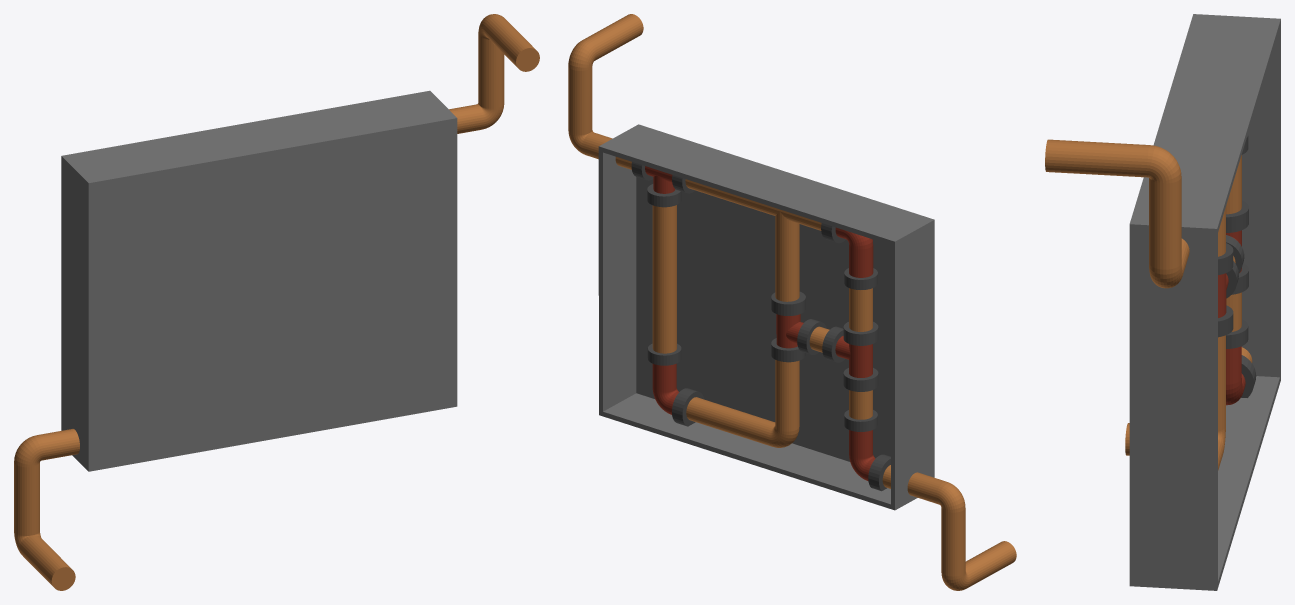
Rendered from Submarine_Pipe_Puzzle.fbx.
3 views of the same model, side by side, from view 1: azimuth 30°, elevation 25°; view 2: azimuth 150°, elevation 25°; view 3: azimuth 270°, elevation 25° (orthographic). The views are drawn at different scales.
Visible parts, largest first — view 1: PipeBox, Main_Pipe; view 2: PipeBox, Main_Pipe, PuzzlePipe2, PuzzlePipe4, PuzzlePipe6, PuzzlePipe1, PuzzlePipe3, PuzzlePipe5; view 3: PipeBox, Main_Pipe, PuzzlePipe1, PuzzlePipe4, PuzzlePipe2.
Part boxes in pixels (x1,y1,x2,y2): PipeBox: [61, 90, 457, 471]; Main_Pipe: [14, 14, 539, 590]; PipeBox: [598, 124, 934, 510]; Main_Pipe: [568, 14, 1016, 590]; PuzzlePipe2: [822, 321, 878, 391]; PuzzlePipe4: [771, 291, 826, 362]; PuzzlePipe6: [647, 343, 704, 426]; PuzzlePipe1: [844, 410, 890, 491]; PuzzlePipe3: [821, 223, 877, 289]; PuzzlePipe5: [631, 162, 694, 207]; PipeBox: [1129, 14, 1280, 590]; Main_Pipe: [1045, 139, 1252, 470]; PuzzlePipe1: [1226, 319, 1256, 405]; PuzzlePipe4: [1218, 243, 1238, 337]; PuzzlePipe2: [1226, 200, 1248, 294].
Bounding box in the file's own units: 67.36 × 63.72 × 23.58.
